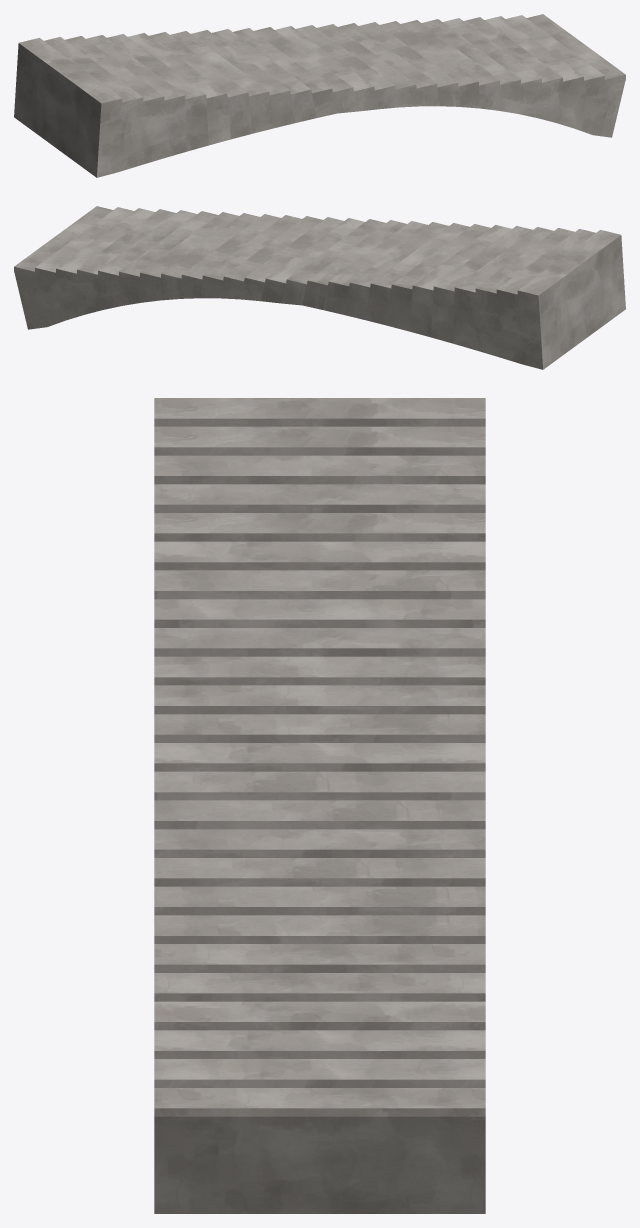
File: Stairs.fbx
The picture shows the model from 3 angles, top to bottom: view 1: azimuth 30°, elevation 25°; view 2: azimuth 150°, elevation 25°; view 3: azimuth 270°, elevation 25°; orthographic projection. The views are drawn at different scales.
Parts seen in each view (by area): view 1: Stairs_Baked; view 2: Stairs_Baked; view 3: Stairs_Baked.
Part boxes in pixels (left/top/right/bottom): Stairs_Baked: left=14, top=14, right=625, bottom=177; Stairs_Baked: left=14, top=206, right=625, bottom=369; Stairs_Baked: left=154, top=398, right=485, bottom=1213.
Size of the model in its own units: 13.4 by 3.84 by 3.63.
Materials: 1 (1 with a texture image).
